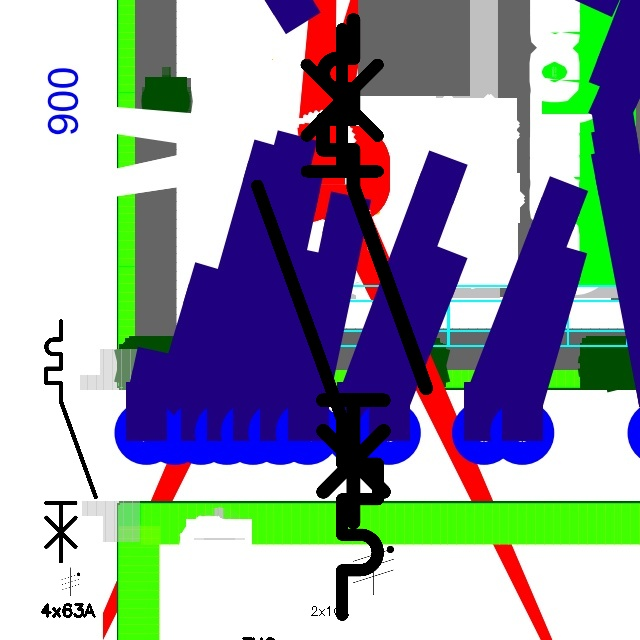interruptor_termomagnetico: (242, 14, 393, 630), (310, 7, 439, 535), (40, 315, 101, 567)
